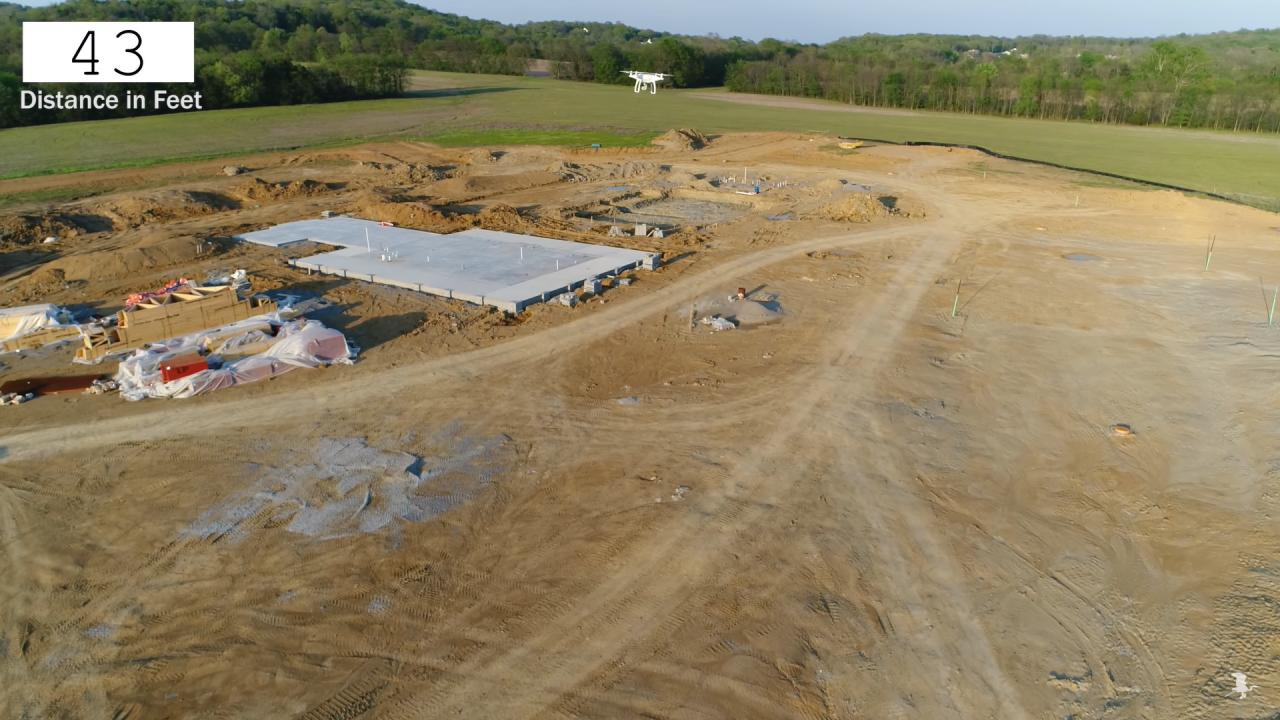Drone: (612, 62, 685, 98)
